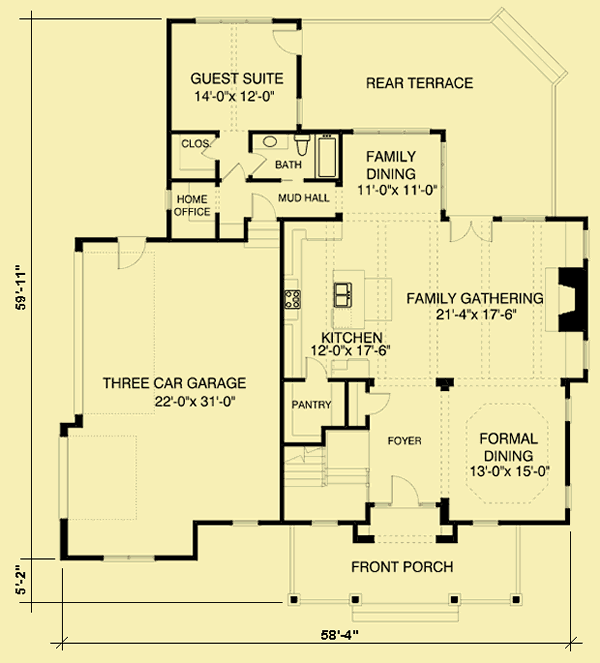bathroom has a tub, small and large sink: (253, 134, 341, 180)
there are stairs from the front porch: (283, 429, 369, 527)
this is a kitchen with a kitchen bar, cooking range and sink: (279, 219, 408, 385)
